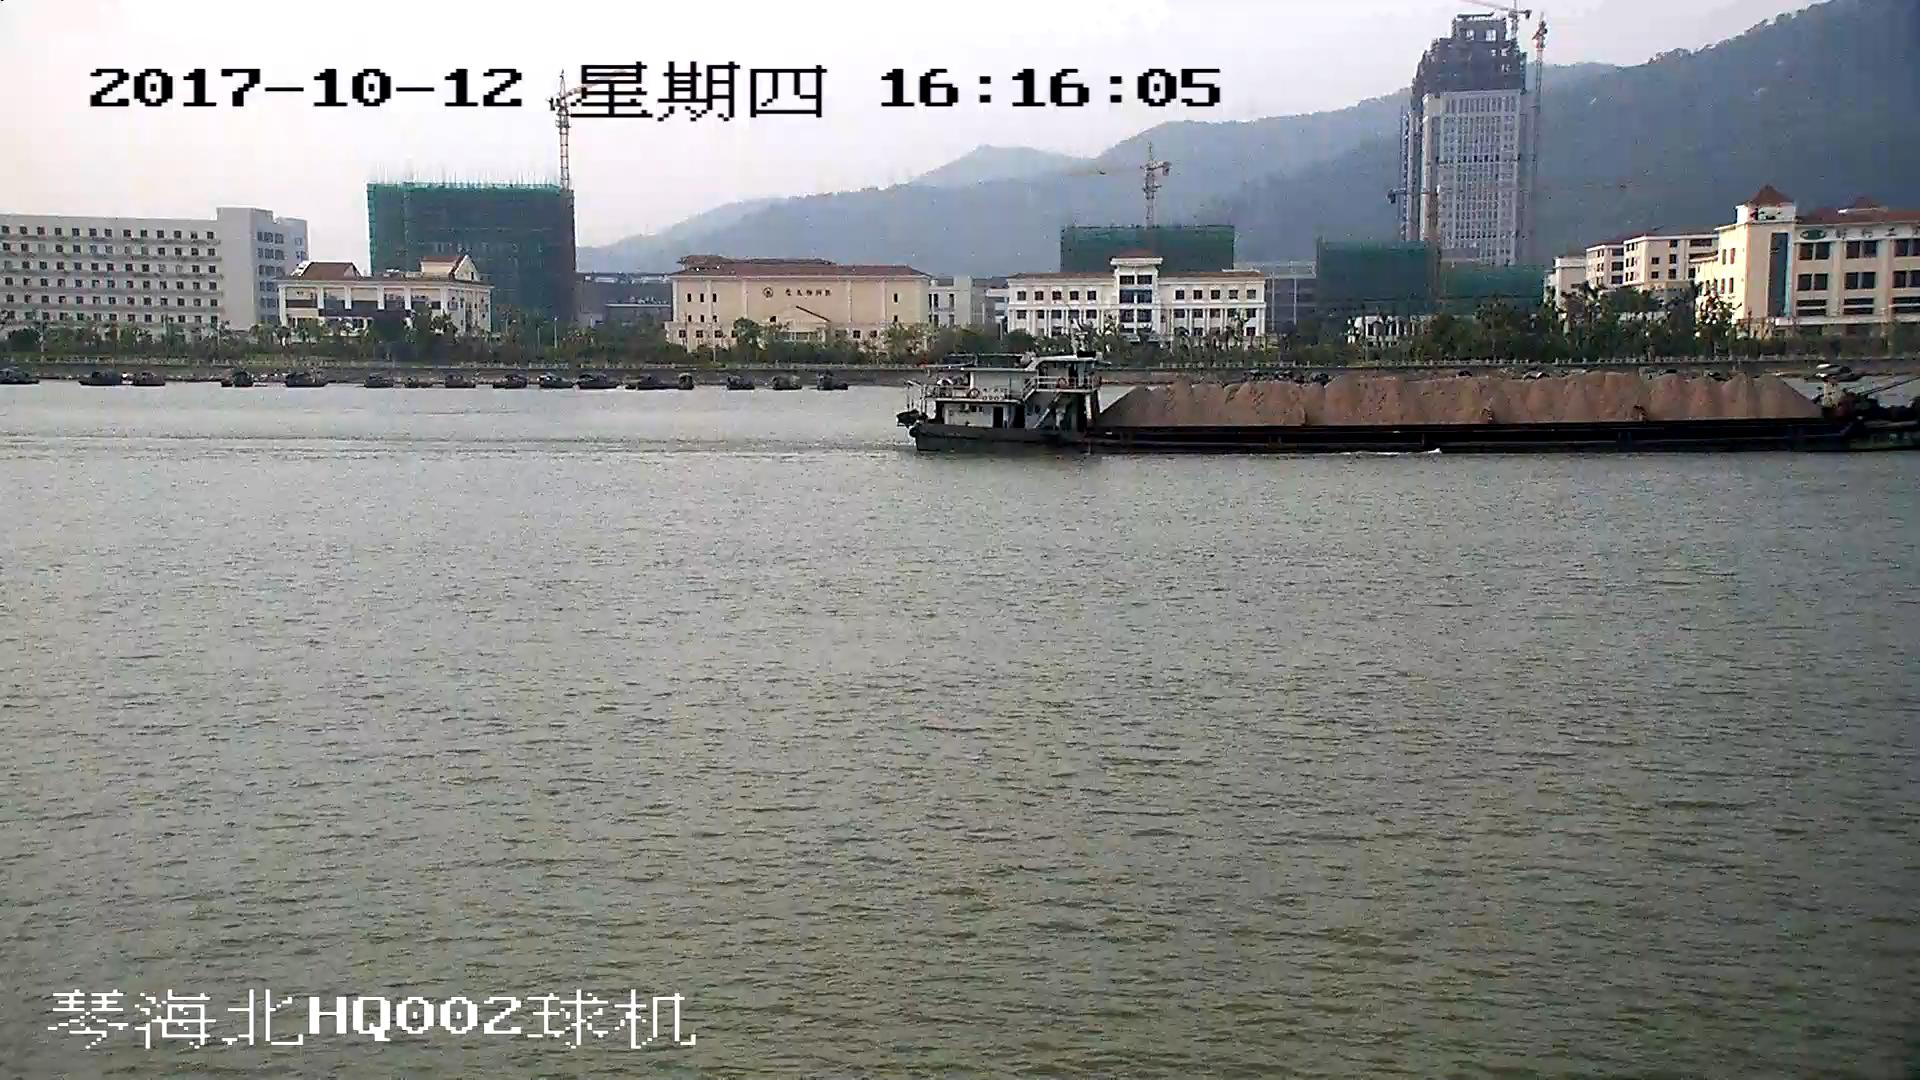ore carrier: (900, 357, 1920, 451)
